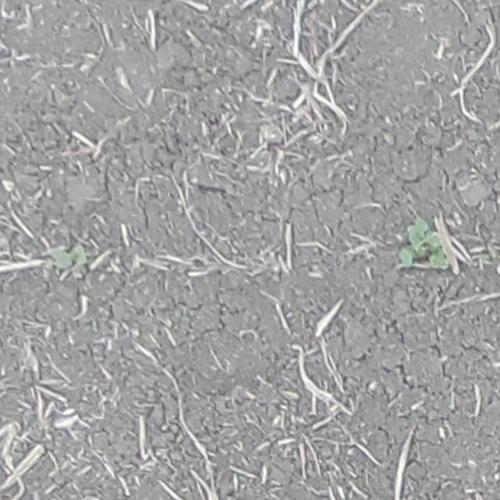clumped: (398, 220, 449, 268)
isolated: (52, 246, 86, 268)
